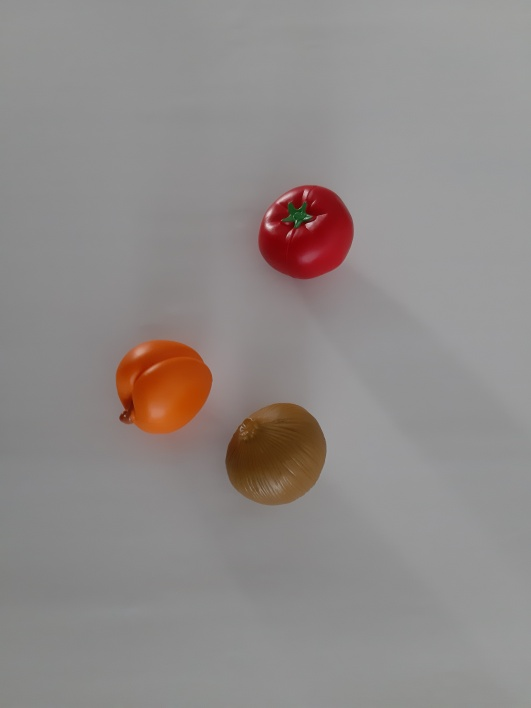apricot: (108, 332, 223, 450)
onion: (217, 394, 343, 519)
tomato: (249, 172, 365, 289)
